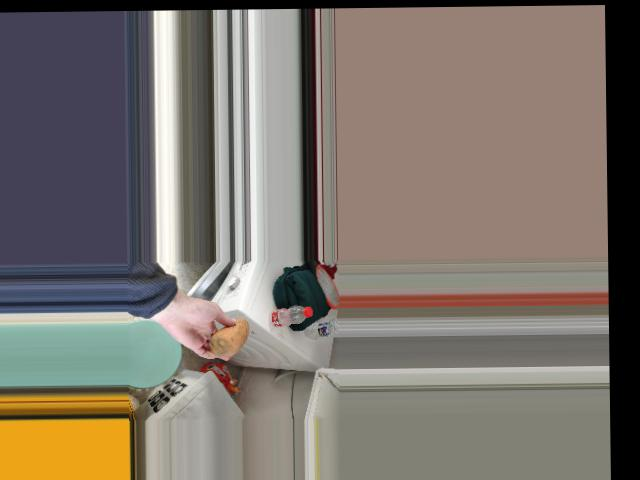sweet_potato: (204, 313, 249, 353)
